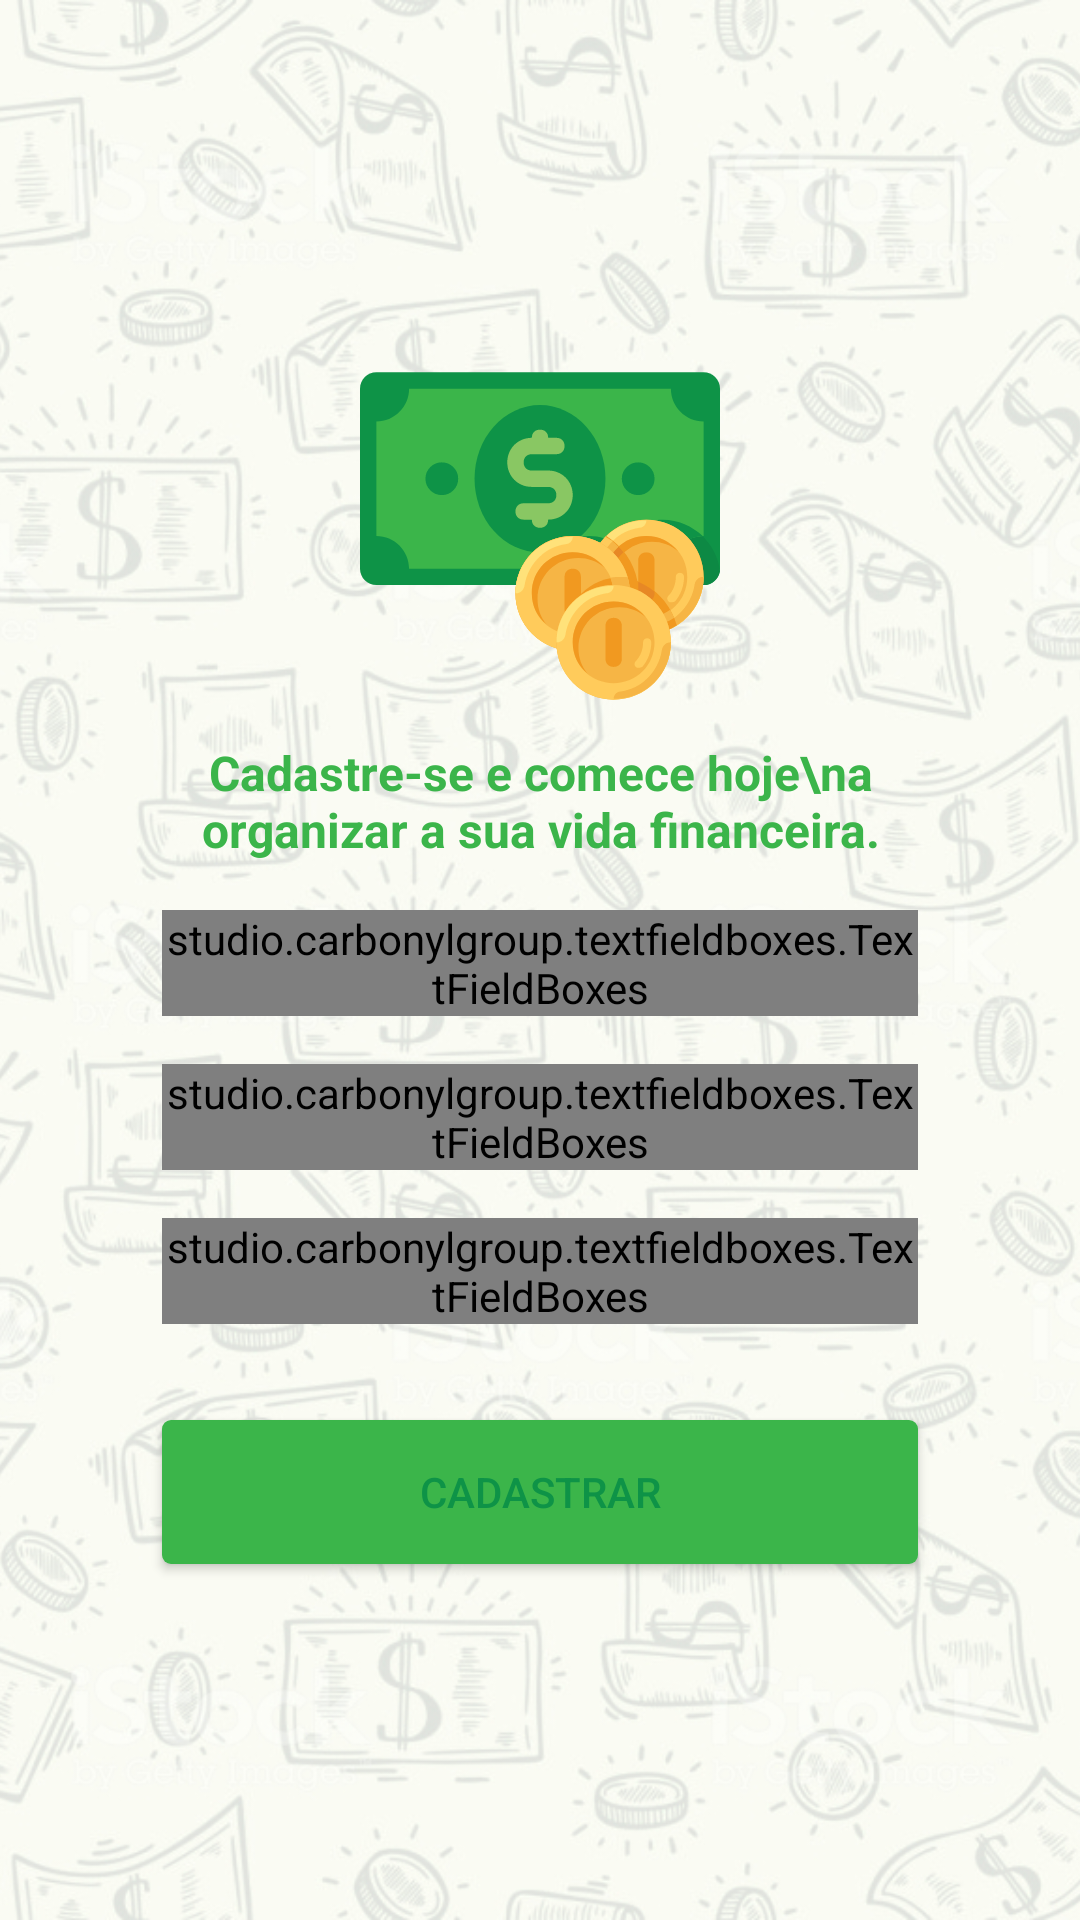

Where to tap for icons on this 1080 x 1920 app screen, as [x,y]:
money: [540,536]
